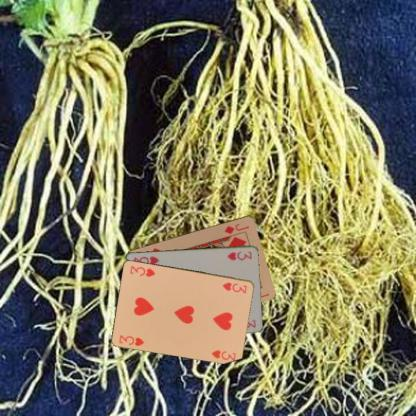3h: (116, 332, 146, 347), (224, 248, 254, 262), (220, 280, 249, 294)
Jd: (221, 221, 250, 235)
